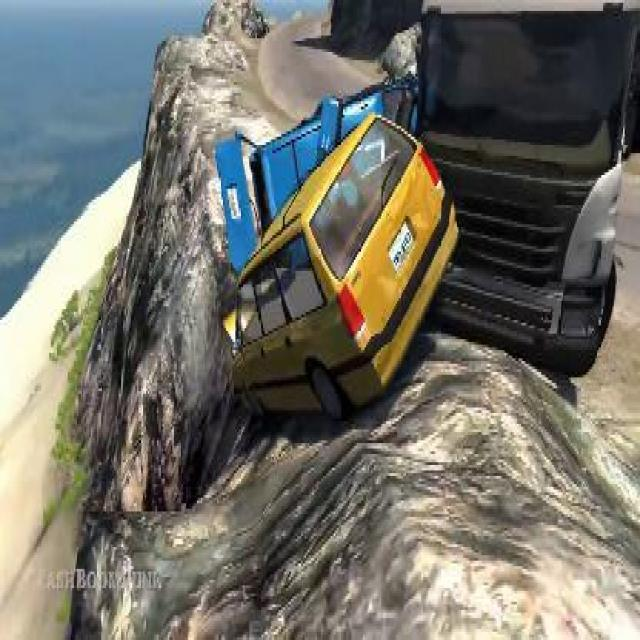accident: (214, 0, 638, 432), (215, 55, 459, 421)
